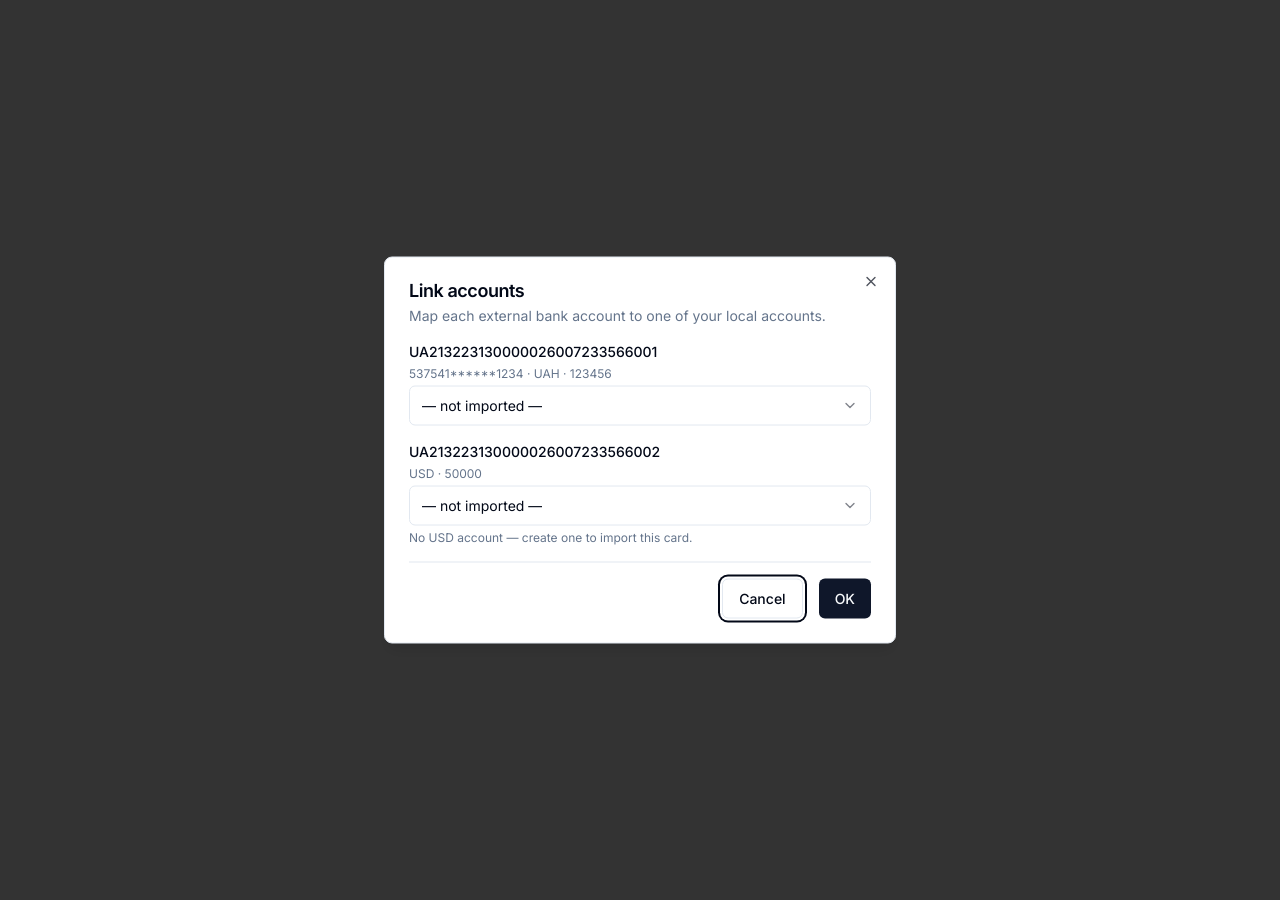
Test: LinkAccountsDialog › disambiguates same-currency local accounts by their bank label
Click the dropdown named "UA213223130000026007233566001". click: (482, 405)
box: top-left (409, 386), bottom-right (871, 426)
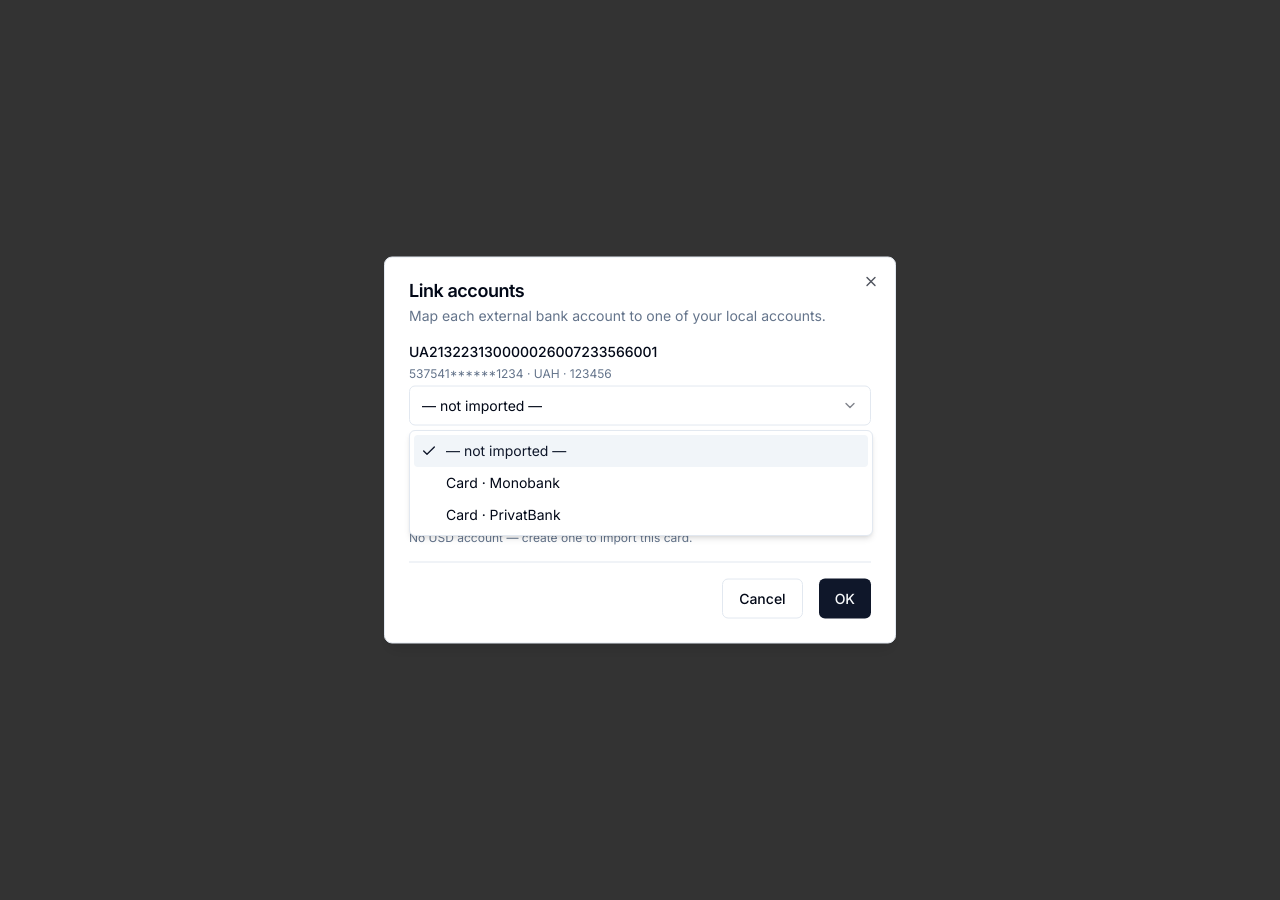
Expected: the option "Card · Monobank" is shown, top-left (446, 474), bottom-right (560, 491)
Expected: the option "Card · PrivatBank" is shown, top-left (446, 506), bottom-right (561, 523)
